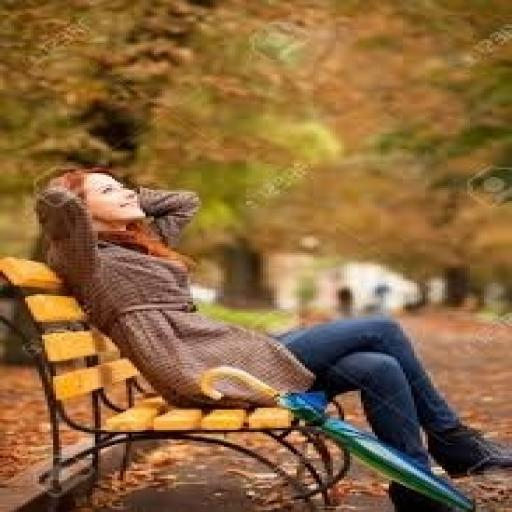sitting: (28, 158, 509, 510)
